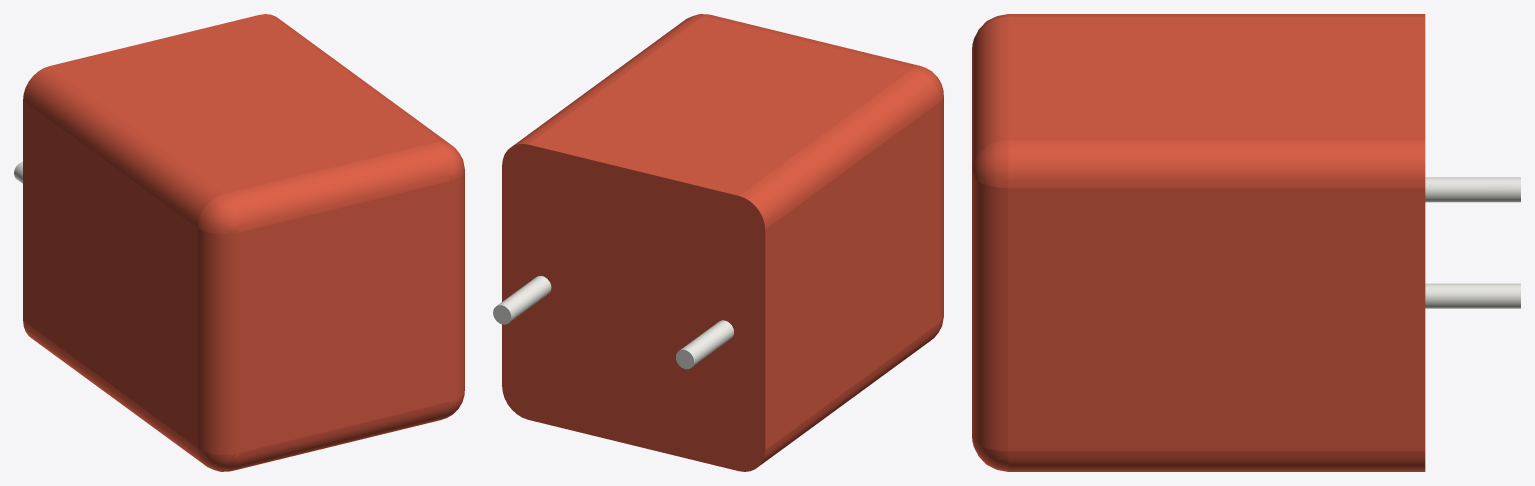
Rendered from C_Rect_L7.2mm_W7.2mm_P5.00mm_FKS2_FKP2_MKS2_MKP2.glb.
3 views of the same model, side by side, from view 1: azimuth 30°, elevation 25°; view 2: azimuth 150°, elevation 25°; view 3: azimuth 270°, elevation 25° (orthographic). The views are drawn at different scales.
Parts seen in each view (by area): view 1: Shape_IndexedFaceSet.008, Shape_IndexedFaceSet, Shape_IndexedFaceSet.009, Shape_IndexedFaceSet.002, Shape_IndexedFaceSet.004, Shape_IndexedFaceSet.016, Shape_IndexedFaceSet.015, Shape_IndexedFaceSet.017, Shape_IndexedFaceSet.001, Shape_IndexedFaceSet.011, Shape_IndexedFaceSet.007, Shape_IndexedFaceSet.005 (+1 smaller); view 2: Shape_IndexedFaceSet.003, Shape_IndexedFaceSet, Shape_IndexedFaceSet.009, Shape_IndexedFaceSet.004, Shape_IndexedFaceSet.001, Shape_IndexedFaceSet.011, Shape_IndexedFaceSet.014, Shape_IndexedFaceSet.013, Shape_IndexedFaceSet.016, Shape_IndexedFaceSet.002; view 3: Shape_IndexedFaceSet.012, Shape_IndexedFaceSet.009, Shape_IndexedFaceSet.011, Shape_IndexedFaceSet.017, Shape_IndexedFaceSet.010, Shape_IndexedFaceSet.016, Shape_IndexedFaceSet.013, Shape_IndexedFaceSet.014, Shape_IndexedFaceSet.004, Shape_IndexedFaceSet.019, Shape_IndexedFaceSet.018.
Boxes of the visible parts, left/top/right/bottom form: Shape_IndexedFaceSet.008: left=239, top=181, right=449, bottom=452; Shape_IndexedFaceSet: left=23, top=100, right=197, bottom=447; Shape_IndexedFaceSet.009: left=49, top=15, right=433, bottom=193; Shape_IndexedFaceSet.002: left=197, top=228, right=239, bottom=454; Shape_IndexedFaceSet.004: left=23, top=66, right=223, bottom=227; Shape_IndexedFaceSet.016: left=224, top=142, right=449, bottom=232; Shape_IndexedFaceSet.015: left=232, top=401, right=449, bottom=470; Shape_IndexedFaceSet.017: left=449, top=170, right=464, bottom=401; Shape_IndexedFaceSet.001: left=23, top=320, right=202, bottom=463; Shape_IndexedFaceSet.011: left=260, top=14, right=449, bottom=143; Shape_IndexedFaceSet.007: left=197, top=194, right=239, bottom=234; Shape_IndexedFaceSet.005: left=198, top=448, right=239, bottom=471; Shape_IndexedFaceSet.003: left=502, top=144, right=765, bottom=471; Shape_IndexedFaceSet: left=765, top=102, right=939, bottom=449; Shape_IndexedFaceSet.009: left=528, top=16, right=913, bottom=195; Shape_IndexedFaceSet.004: left=739, top=68, right=939, bottom=229; Shape_IndexedFaceSet.001: left=757, top=322, right=939, bottom=467; Shape_IndexedFaceSet.011: left=513, top=16, right=702, bottom=145; Shape_IndexedFaceSet.014: left=497, top=276, right=551, bottom=322; Shape_IndexedFaceSet.013: left=680, top=320, right=733, bottom=366; Shape_IndexedFaceSet.016: left=703, top=14, right=919, bottom=67; Shape_IndexedFaceSet.002: left=940, top=97, right=943, bottom=321; Shape_IndexedFaceSet.012: left=1008, top=188, right=1425, bottom=450; Shape_IndexedFaceSet.009: left=1008, top=17, right=1425, bottom=139; Shape_IndexedFaceSet.011: left=1008, top=140, right=1425, bottom=188; Shape_IndexedFaceSet.017: left=972, top=173, right=1008, bottom=450; Shape_IndexedFaceSet.010: left=1008, top=451, right=1425, bottom=471; Shape_IndexedFaceSet.016: left=972, top=17, right=1008, bottom=171; Shape_IndexedFaceSet.013: left=1425, top=177, right=1520, bottom=202; Shape_IndexedFaceSet.014: left=1425, top=283, right=1520, bottom=308; Shape_IndexedFaceSet.004: left=1008, top=14, right=1425, bottom=17; Shape_IndexedFaceSet.019: left=972, top=140, right=1008, bottom=187; Shape_IndexedFaceSet.018: left=972, top=436, right=1008, bottom=471.
Bounding box in the file's own units: 2.83 × 2.83 × 4.29.
